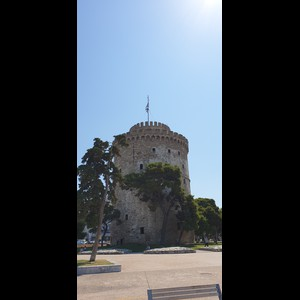White Tower: (108, 97, 194, 246)
